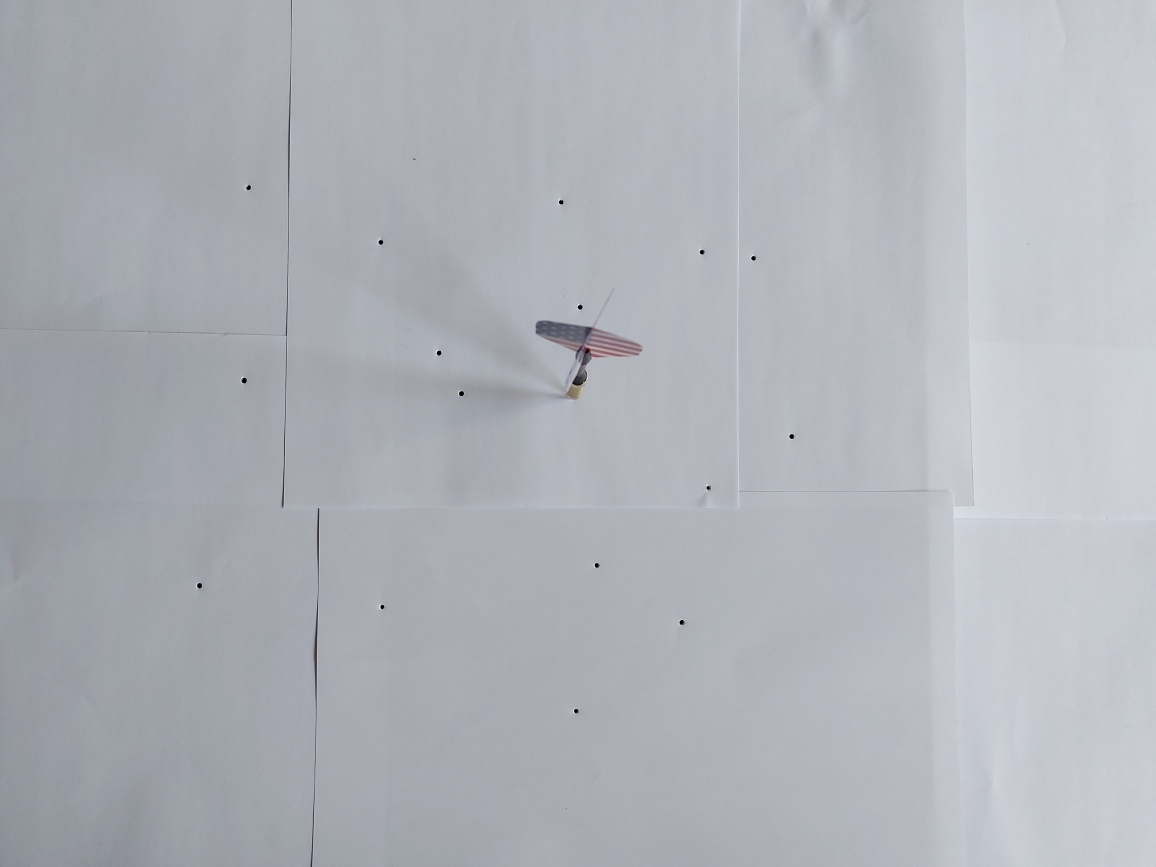Dart: (528, 283, 649, 414)
